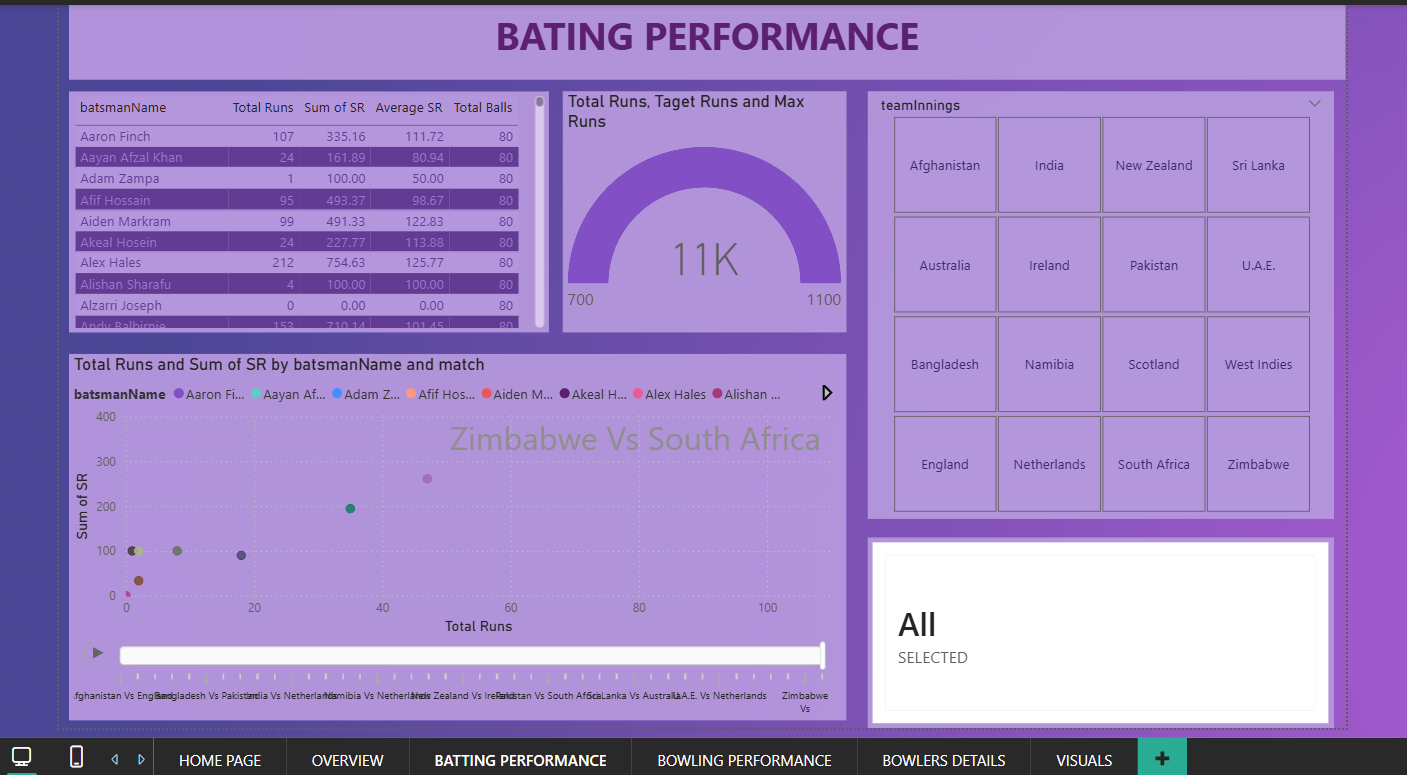

The page's visual inventory and layout, read from the dashboard file:
{"tool":"powerbi","page":{"name":"BATTING PERFORMANCE ","canvas":[1280,720],"ordinal":2},"visuals":[{"type":"textbox","box":[10,0,1270.1,74.6],"z":0},{"type":"tableEx","fields":{"Values":["Batting.batsmanName","CALCULATION.Total Runs","Sum(Batting.SR)","CALCULATION.Average SR","CALCULATION.Total Balls"]},"box":[10,85.8,477.7,240.1],"z":1000},{"type":"scatterChart","fields":{"Series":["Batting.batsmanName"],"Play":["Batting.match"],"X":["CALCULATION.Total Runs"],"Y":["Sum(Batting.SR)"]},"box":[10,347.1,773.7,364.5],"z":2000},{"type":"cardVisual","fields":{"Data":["CALCULATION.SELECTED"]},"box":[804.8,529.9,464,190.3],"z":3000},{"type":"slicer","fields":{"Values":["Batting.teamInnings"]},"box":[804.8,85.8,464,425.4],"z":4000},{"type":"gauge","fields":{"MaxValue":["CALCULATION.Max Runs"],"Y":["CALCULATION.Total Runs"],"MinValue":["CALCULATION.Taget Runs"]},"box":[501.3,85.8,282.4,240.1],"z":5000}]}

Visuals, with their boxes on the page's 1280x720 design canvas (x1, y1, x2, y2). These are canvas units, not pixel positions in the 1407x775 screenshot, which may show the page scaled, cropped or inside an application window:
textbox: x1=10 y1=0 x2=1280 y2=75
tableEx - Batting.batsmanName x CALCULATION.Total Runs: x1=10 y1=86 x2=488 y2=326
scatterChart - Batting.batsmanName x Batting.match: x1=10 y1=347 x2=784 y2=712
cardVisual - CALCULATION.SELECTED: x1=805 y1=530 x2=1269 y2=720
slicer - Batting.teamInnings: x1=805 y1=86 x2=1269 y2=511
gauge - CALCULATION.Max Runs x CALCULATION.Total Runs: x1=501 y1=86 x2=784 y2=326
